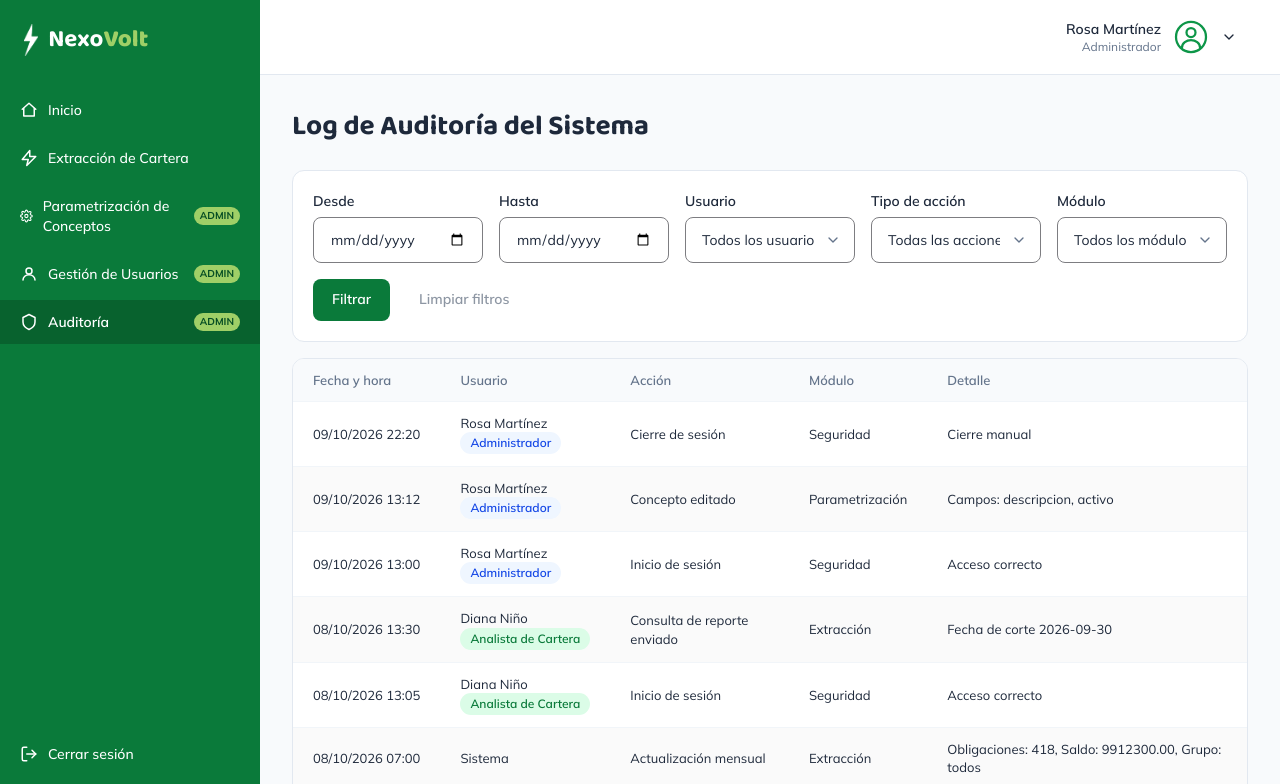
Test: Log de auditoría › un rango de fechas con la final anterior a la inicial se rechaza antes de pedir nada y enfoca el campo
Type "2026-10-05" into the date field labelled "Desde" at (398, 240), box [313,217,483,263]
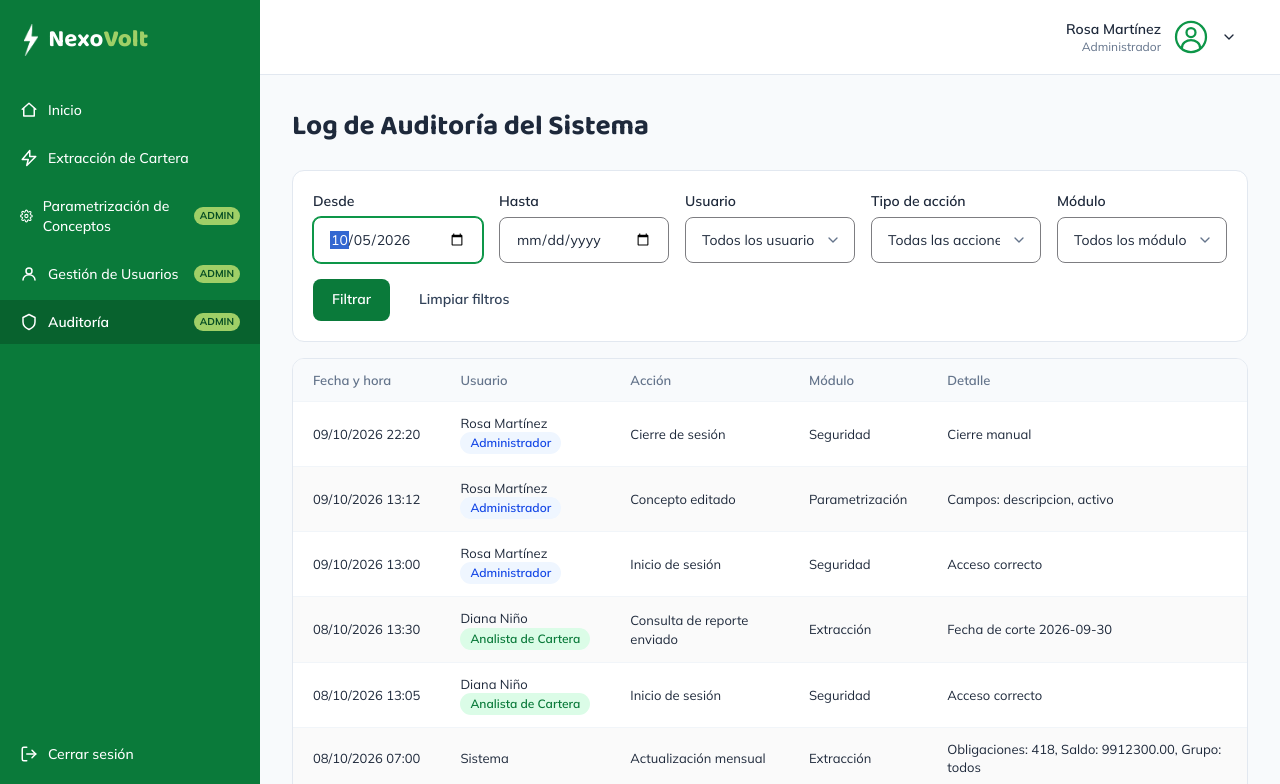
Type "2026-10-01" into the date field labelled "Hasta" at (584, 240), box [499,217,669,263]
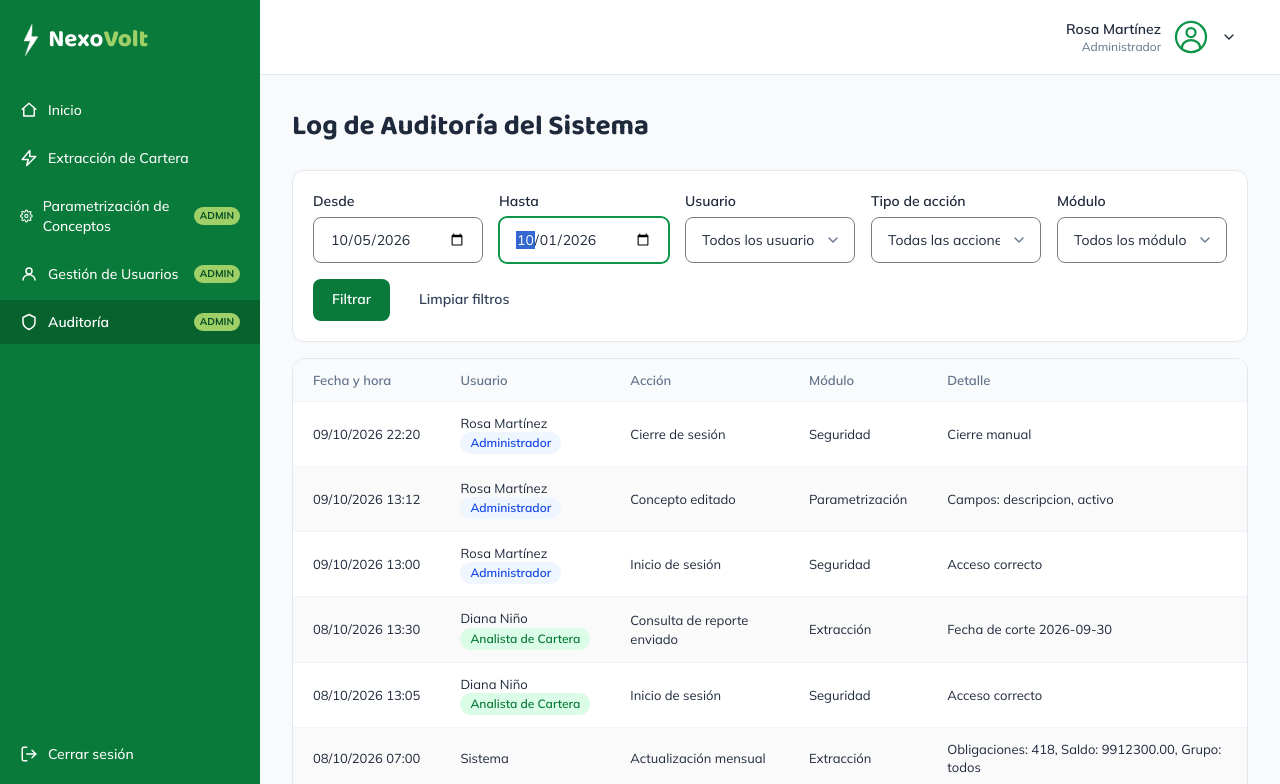
Click the button "Filtrar" at (352, 300), box [313,279,390,321]
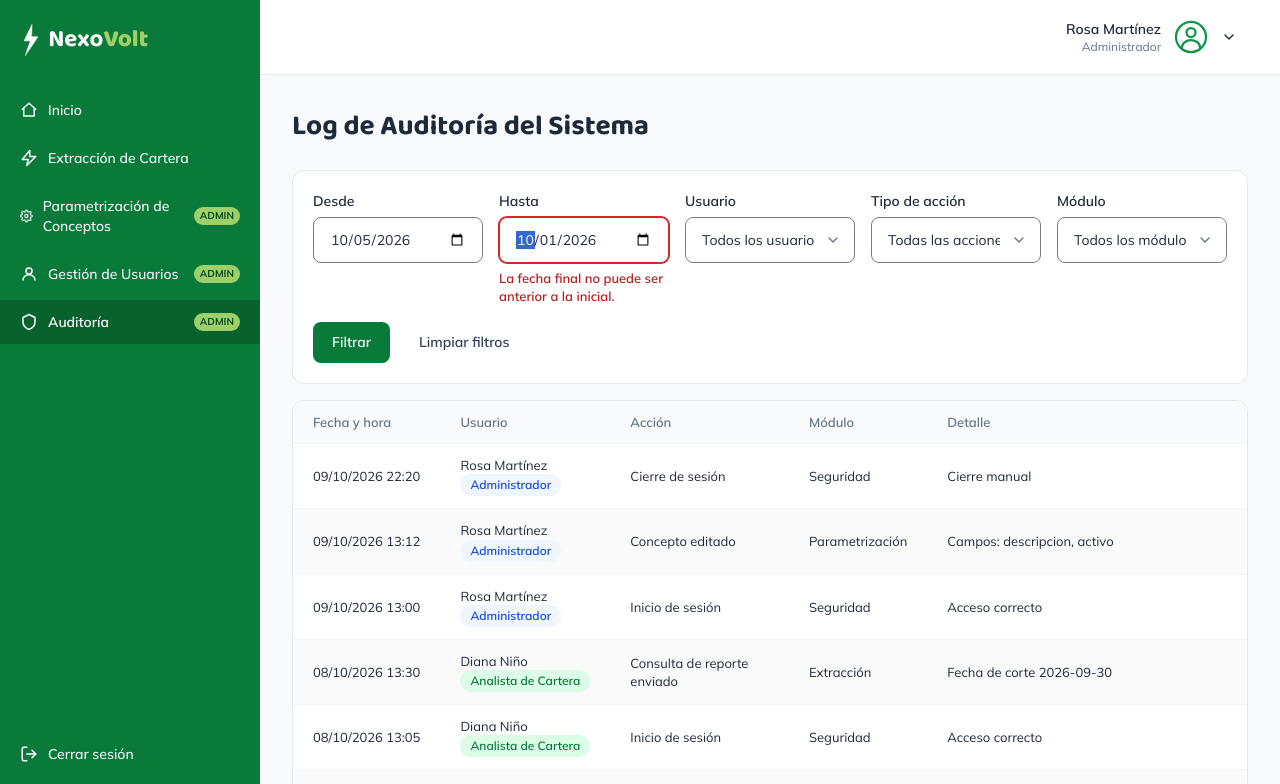
Expected: the text "La fecha final no puede ser anterior a la inicial." is shown, [499,269,669,306]
